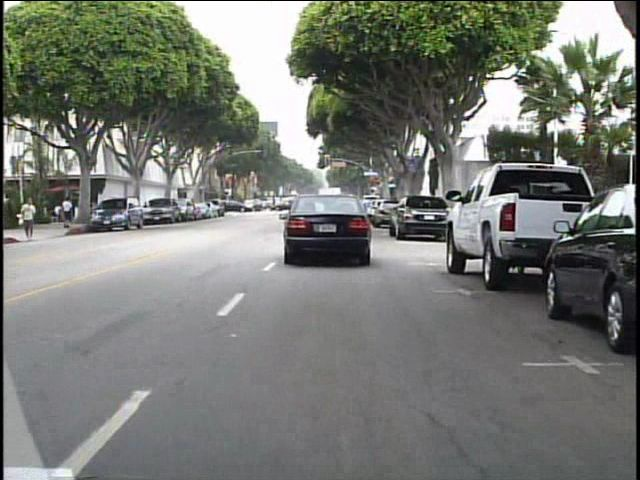person: (23, 195, 45, 245), (63, 195, 79, 230), (280, 193, 281, 217)
